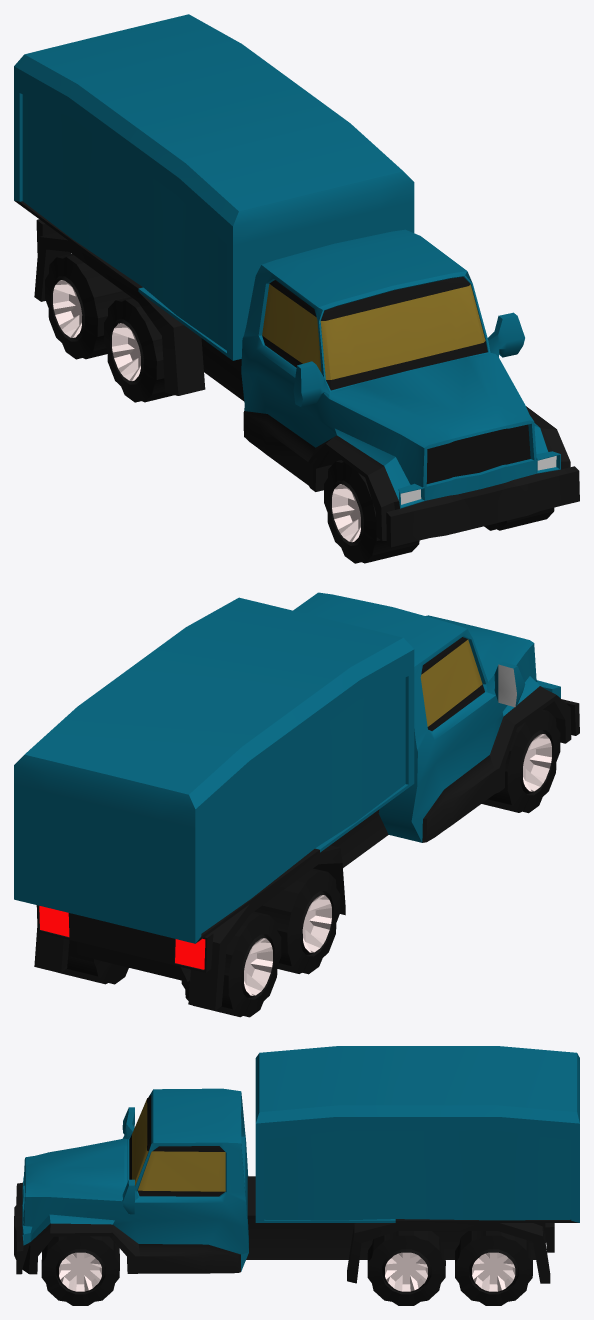
File: kamyon_2.fbx
The picture shows the model from 3 angles, top to bottom: view 1: azimuth 30°, elevation 25°; view 2: azimuth 150°, elevation 25°; view 3: azimuth 270°, elevation 25°; orthographic projection. The views are drawn at different scales.
Parts seen in each view (by area): view 1: kapalikasa, offroad 3.005, offroad 3.003, offroad 3.001; view 2: kapalikasa, offroad 3.003, offroad 3.005, offroad 3.001, offroad 3.006; view 3: kapalikasa, offroad 3.004, offroad 3.006, offroad 3.002.
Boxes of the visible parts, x1,y1,x2,y2 form: kapalikasa: (14,14,579,547); offroad 3.005: (45,253,130,359); offroad 3.003: (104,297,174,402); offroad 3.001: (324,460,419,563); kapalikasa: (14,592,579,1010); offroad 3.003: (254,868,340,974); offroad 3.005: (181,911,281,1017); offroad 3.001: (481,709,560,813); offroad 3.006: (61,940,128,984); kapalikasa: (14,1046,579,1283); offroad 3.004: (367,1231,445,1305); offroad 3.006: (455,1231,532,1305); offroad 3.002: (41,1236,119,1305).
Size of the model in its own units: 831 by 948 by 2458.
